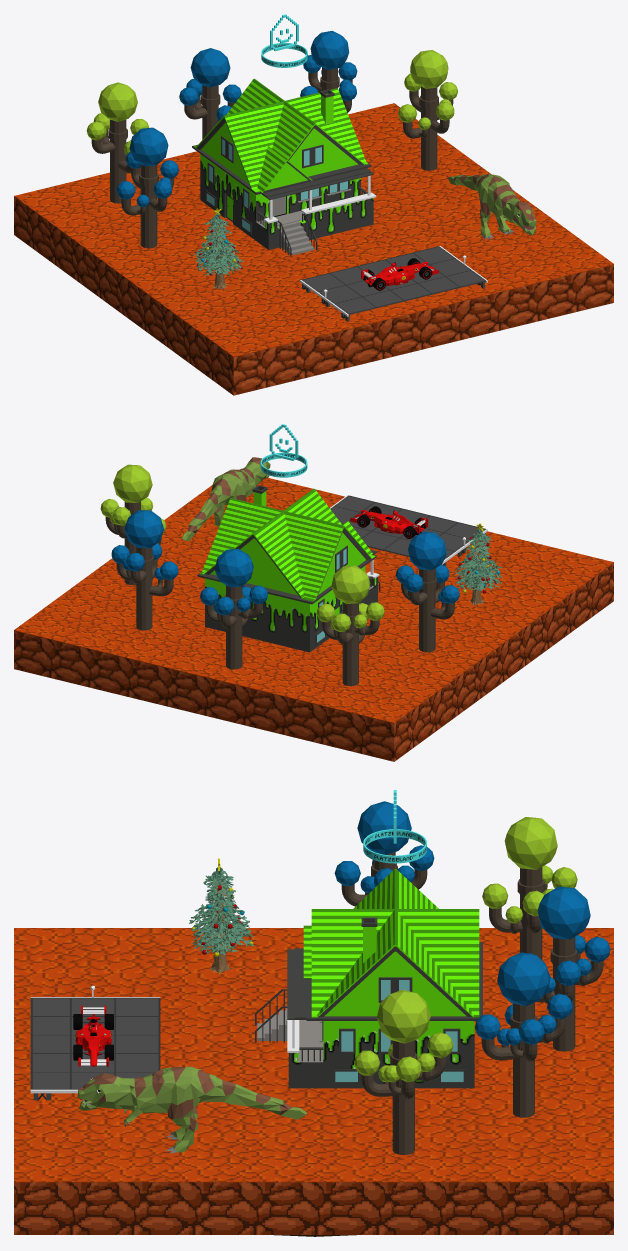
The picture shows the model from 3 angles, top to bottom: view 1: azimuth 30°, elevation 25°; view 2: azimuth 150°, elevation 25°; view 3: azimuth 270°, elevation 25°; orthographic projection. The views are drawn at different scales.
Parts seen in each view (by area): view 1: Cube.001, Cube.754, ANIMAL_TREX, OBJRANDOM_CHRISTMAS_TREE, VEHICLES_FORMULA_1, TYPE_PREMIUM; view 2: Cube.001, Cube.754, ANIMAL_TREX, OBJRANDOM_CHRISTMAS_TREE, VEHICLES_FORMULA_1, TYPE_PREMIUM; view 3: Cube.001, Cube.754, ANIMAL_TREX, OBJRANDOM_CHRISTMAS_TREE, VEHICLES_FORMULA_1, TYPE_PREMIUM.
Boxes of the visible parts, x1,y1,x2,y2 form: Cube.001: (14,30,613,395); Cube.754: (192,78,376,256); ANIMAL_TREX: (448,173,536,239); OBJRANDOM_CHRISTMAS_TREE: (192,208,243,288); VEHICLES_FORMULA_1: (361,258,438,290); TYPE_PREMIUM: (261,14,307,67); Cube.001: (14,464,613,761); Cube.754: (197,485,380,652); ANIMAL_TREX: (181,457,270,541); OBJRANDOM_CHRISTMAS_TREE: (454,523,502,605); VEHICLES_FORMULA_1: (350,506,428,538); TYPE_PREMIUM: (260,424,307,477); Cube.001: (14,801,613,1234); Cube.754: (255,869,482,1088); ANIMAL_TREX: (77,1066,306,1153); OBJRANDOM_CHRISTMAS_TREE: (189,858,254,973); VEHICLES_FORMULA_1: (73,1005,113,1066); TYPE_PREMIUM: (363,790,426,863).
Size of the model in its own units: 4000 by 2476 by 4000.
42 materials, 6 textured.
